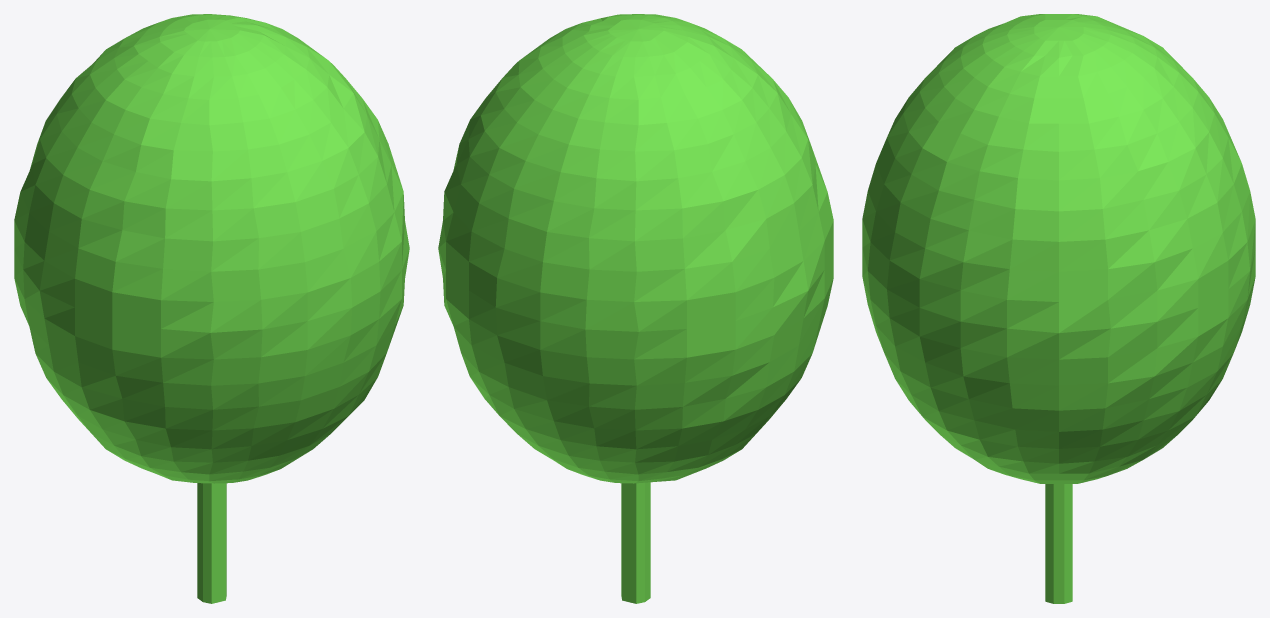
The model's file is baum2.glb.
3 views of the same model, side by side, from view 1: azimuth 30°, elevation 25°; view 2: azimuth 150°, elevation 25°; view 3: azimuth 270°, elevation 25° (orthographic).
Parts seen in each view (by area): view 1: baum; view 2: baum; view 3: baum.
Part boxes in pixels (<box>): baum: <box>14,14,409,603</box>; baum: <box>438,14,833,603</box>; baum: <box>862,14,1255,603</box>.
Bounding box in the file's own units: 9.12 × 14.39 × 9.
